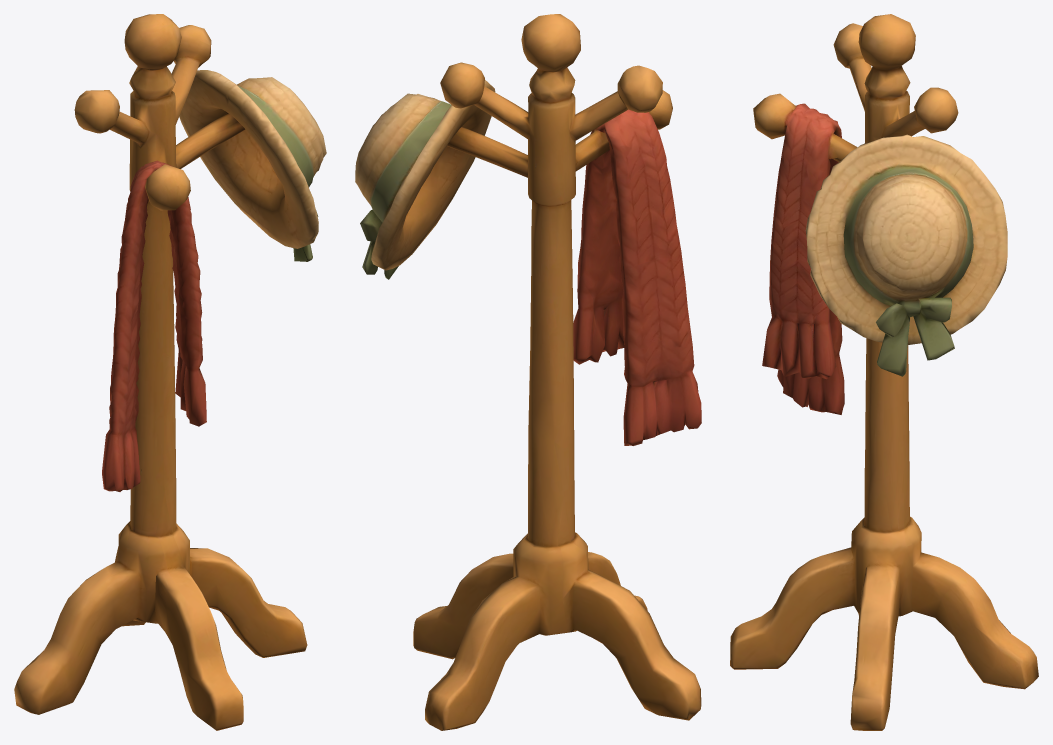
The model's file is coatstand.glb.
3 renders of one model, left to right at view 1: azimuth 30°, elevation 25°; view 2: azimuth 150°, elevation 25°; view 3: azimuth 270°, elevation 25°, orthographic. The views are drawn at different scales.
Parts seen in each view (by area): view 1: tripo_node_a7410929-b727-4f7e-a3c3-3c9d12be4fe8; view 2: tripo_node_a7410929-b727-4f7e-a3c3-3c9d12be4fe8; view 3: tripo_node_a7410929-b727-4f7e-a3c3-3c9d12be4fe8.
Boxes of the visible parts, x1,y1,x2,y2 form: tripo_node_a7410929-b727-4f7e-a3c3-3c9d12be4fe8: (14,14,326,730); tripo_node_a7410929-b727-4f7e-a3c3-3c9d12be4fe8: (355,14,701,730); tripo_node_a7410929-b727-4f7e-a3c3-3c9d12be4fe8: (730,14,1038,730).
Bounding box in the file's own units: 0.4909 × 1 × 0.4292.
1 material, 1 textured.
